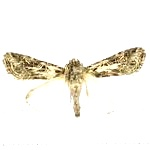Spodoptera litura: (2, 47, 146, 118)
